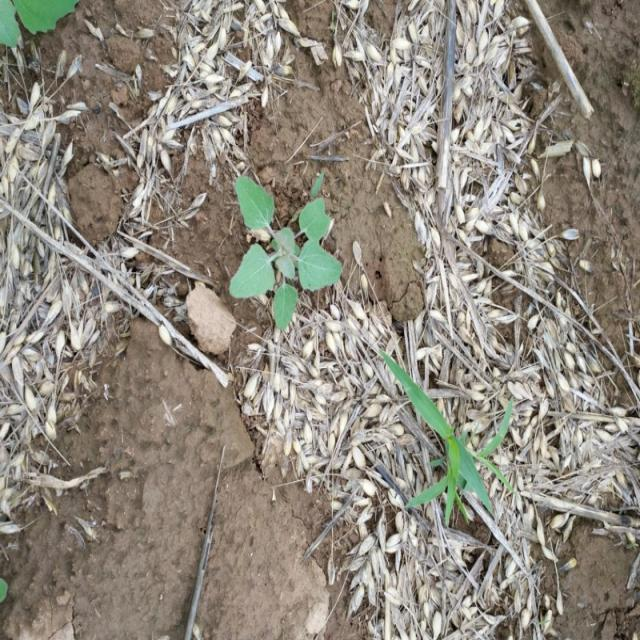goosefoots: (226, 172, 374, 346)
